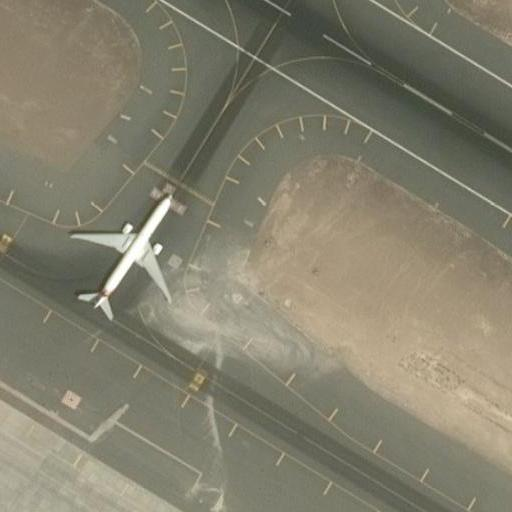Aircraft: (63, 188, 196, 320)
